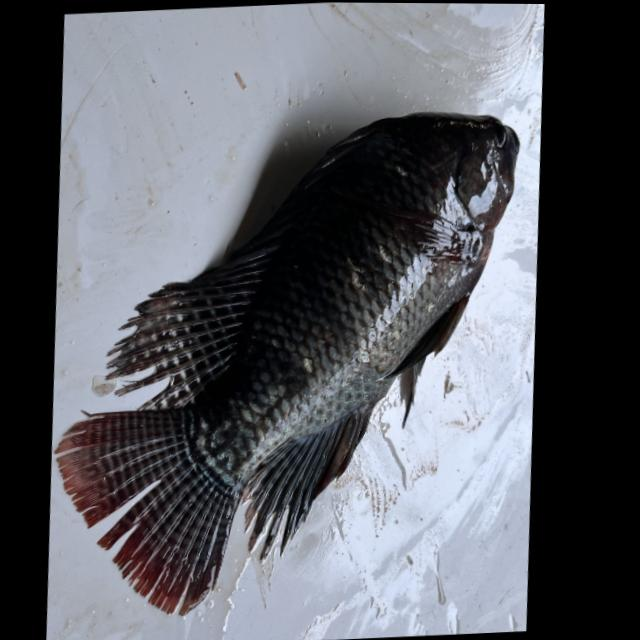Tilapia: (23, 105, 549, 627)
